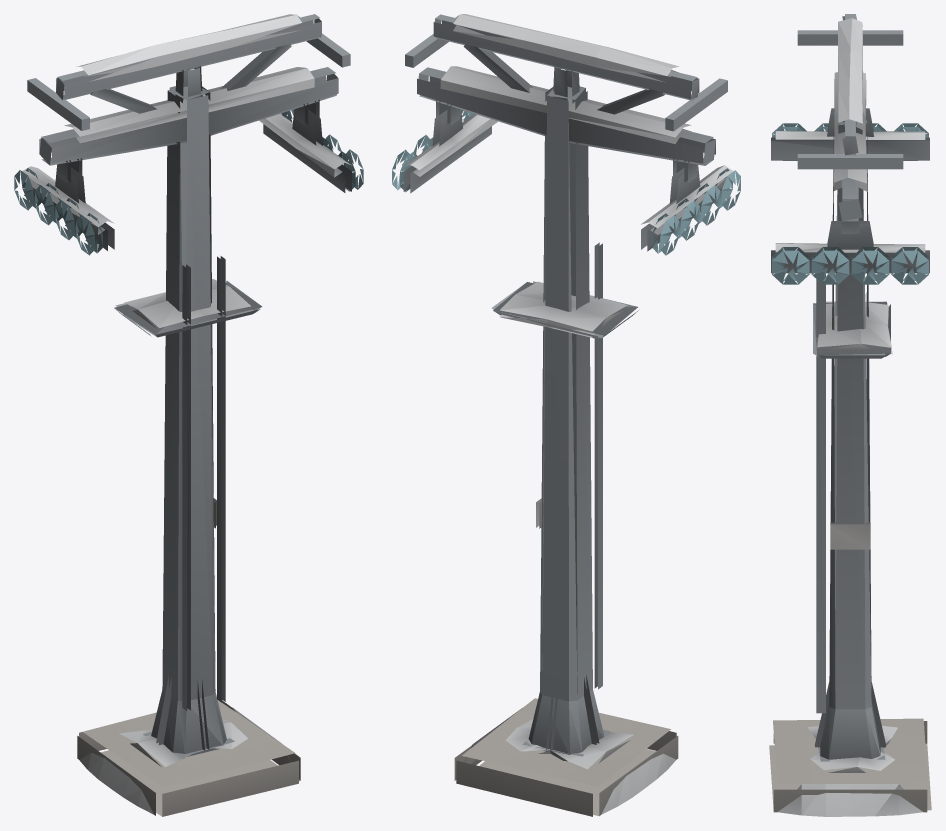
The model's file is pylon.lod.glb.
3 renders of one model, left to right at view 1: azimuth 30°, elevation 25°; view 2: azimuth 150°, elevation 25°; view 3: azimuth 270°, elevation 25°, orthographic. The views are drawn at different scales.
Parts seen in each view (by area): view 1: pylon.001; view 2: pylon.001; view 3: pylon.001.
Boxes of the visible parts, x1,y1,x2,y2 form: pylon.001: (14,14,363,816); pylon.001: (392,14,740,816); pylon.001: (769,14,931,816).
Size of the model in its own units: 3.96 by 9.68 by 2.
